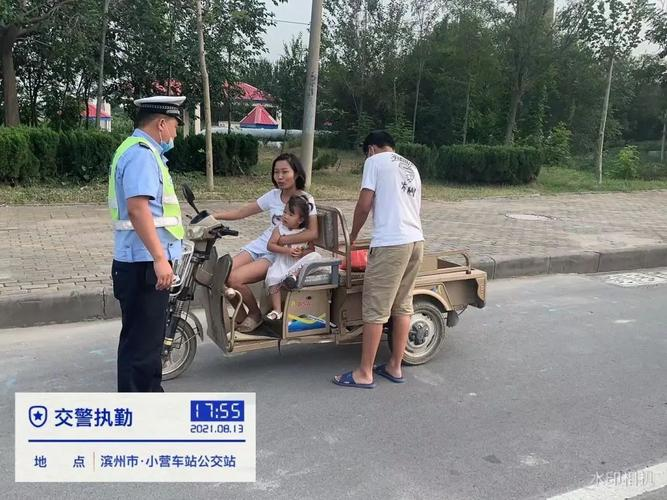driver: (257, 143, 302, 327)
overloading: (184, 149, 483, 373)
passenger: (340, 129, 422, 395), (278, 204, 321, 303)
